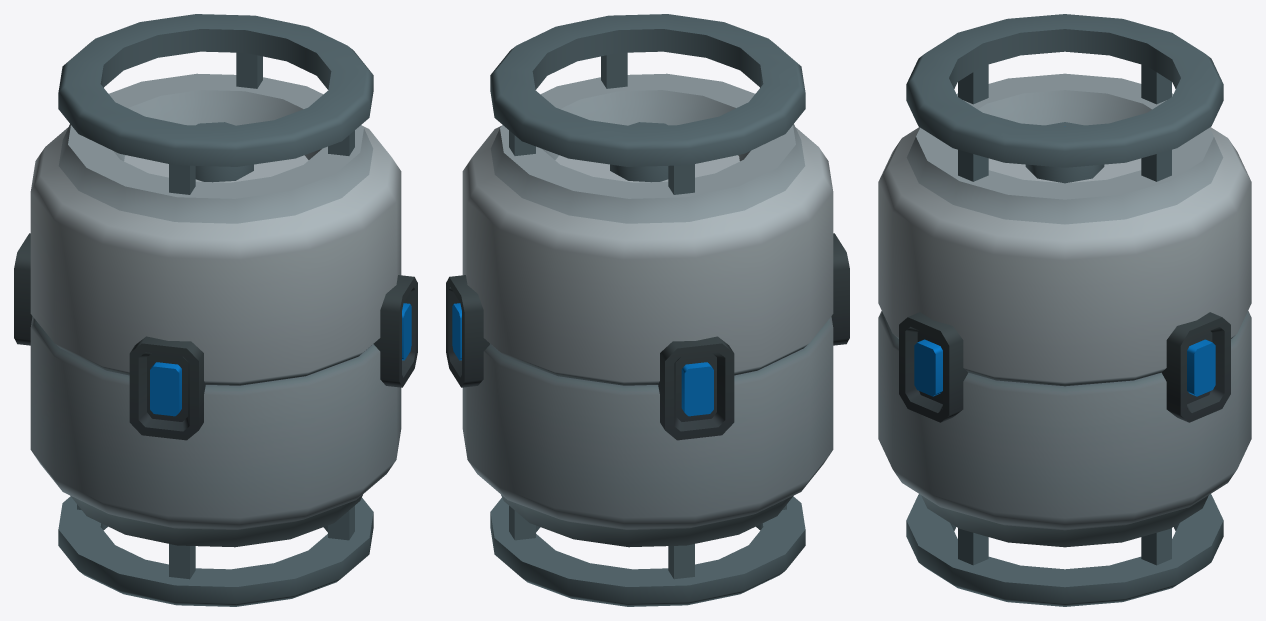
Rendered from Barrel_002.fbx.
3 renders of one model, left to right at view 1: azimuth 30°, elevation 25°; view 2: azimuth 150°, elevation 25°; view 3: azimuth 270°, elevation 25°, orthographic.
Visible parts, largest first — view 1: Barrel_002; view 2: Barrel_002; view 3: Barrel_002.
Part boxes in pixels (x1=…): Barrel_002: x1=14, y1=14, x2=417, y2=606; Barrel_002: x1=446, y1=14, x2=849, y2=606; Barrel_002: x1=878, y1=14, x2=1251, y2=606.
Size of the model in its own units: 60.09 by 60.09 by 82.61.
